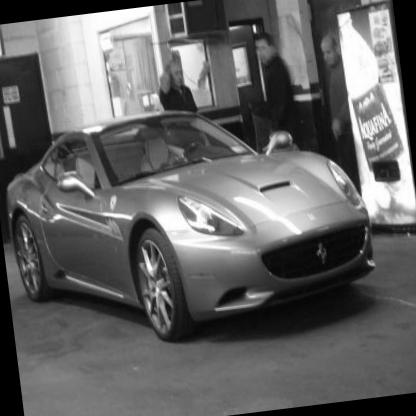car: (1, 67, 395, 377)
